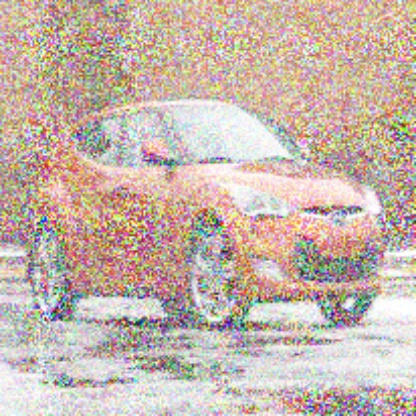Vehicle: (25, 92, 390, 335)
